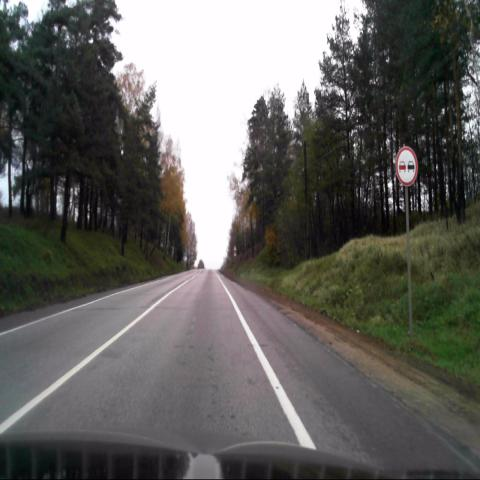3_20: (395, 146, 418, 186)
